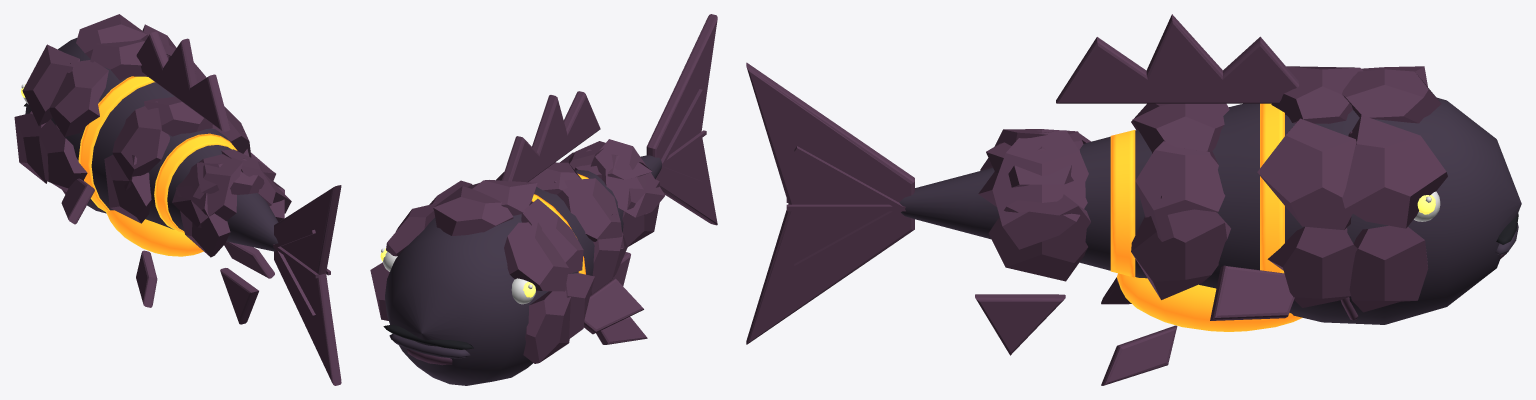
Rendered from FISH_CORELEVIATHAN.glb.
3 views of the same model, side by side, from view 1: azimuth 30°, elevation 25°; view 2: azimuth 150°, elevation 25°; view 3: azimuth 270°, elevation 25° (orthographic). The views are drawn at different scales.
Parts seen in each view (by area): view 1: Basalt, Ash, Glow; view 2: Basalt, Ash, Eye, EyeWhite, Glow; view 3: Basalt, Ash, Glow.
Part boxes in pixels (<box>): Basalt: <box>14,14,341,385</box>; Ash: <box>25,38,278,251</box>; Glow: <box>21,76,237,256</box>; Basalt: <box>370,14,717,365</box>; Ash: <box>385,155,661,385</box>; Eye: <box>383,324,473,349</box>; EyeWhite: <box>381,248,535,304</box>; Glow: <box>380,173,588,297</box>; Basalt: <box>746,14,1506,385</box>; Ash: <box>899,97,1521,324</box>; Glow: <box>1110,103,1435,331</box>.
Size of the model in its own units: 5.07 by 5.78 by 12.
